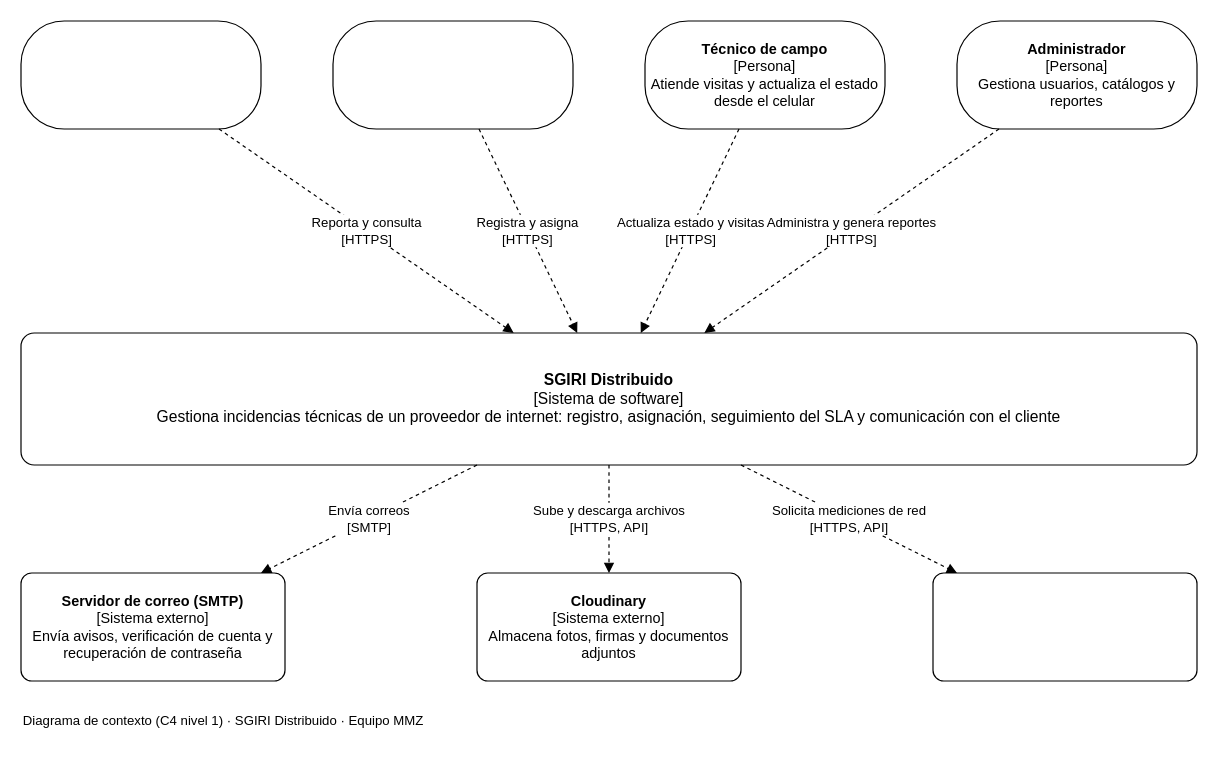
Some shapes in this 1218 by 762 pixel diagram are drawn without their labels. The shapes that lost their labels are listed below. From the top down, each one's box as (x1, y1, x2, y2) in pixels, then its label:
(20, 20, 261, 129): Cliente [Persona] Reporta fallas de su servicio de internet y consulta el avance
(332, 20, 573, 129): Agente de mesa de ayuda [Persona] Registra, clasifica y asigna incidencias
(932, 572, 1197, 681): Globalping [Sistema externo] Ejecuta sondas para revisar el estado de la red
